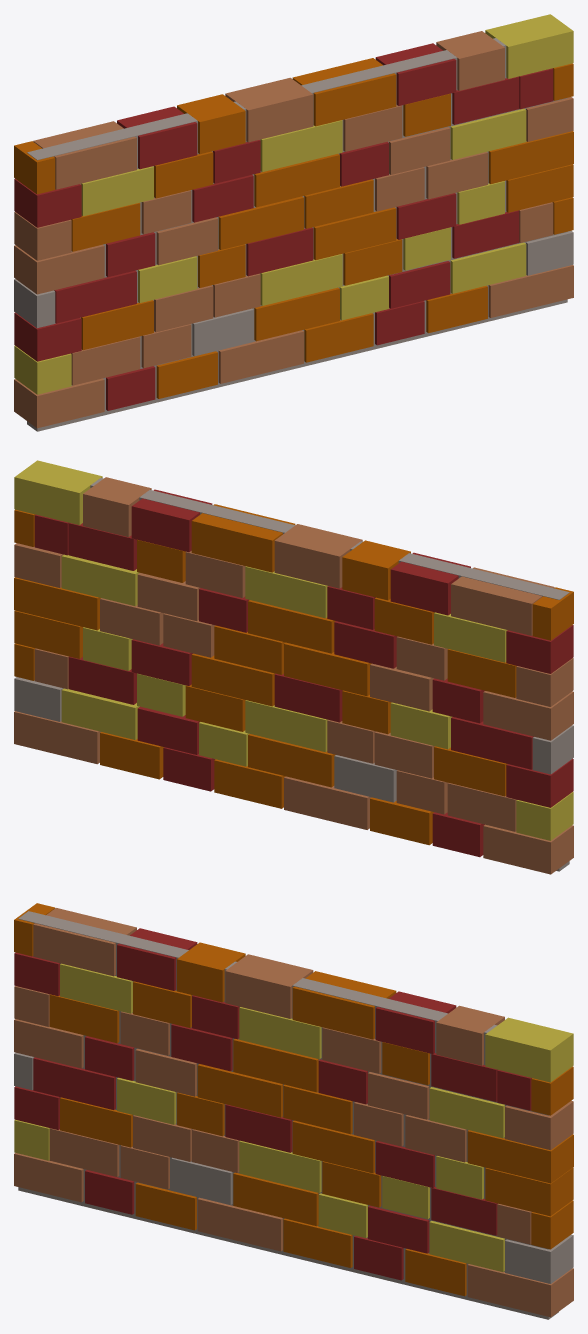
The model's file is mur1.fbx.
The picture shows the model from 3 angles, top to bottom: view 1: azimuth 30°, elevation 25°; view 2: azimuth 150°, elevation 25°; view 3: azimuth 330°, elevation 25°; orthographic projection.
Visible parts, largest first — view 1: Plane, Cube.067, Cube.070, Cube.066, Cube.063, Cube.044, Cube.008, Cube.005, Cube.041, Cube.012, Cube.048, Cube (+61 smaller); view 2: Cube.067, Cube.070, Cube.066, Cube.063, Plane, Cube.044, Cube.008, Cube.012, Cube.048, Cube.041, Cube.005, Cube.036 (+61 smaller); view 3: Plane, Cube.070, Cube.063, Cube.067, Cube.066, Cube, Cube.036, Cube.034, Cube.005, Cube.041, Cube.012, Cube.048 (+61 smaller).
Part boxes in pixels (left/top/right/bottom): Plane: left=27, top=38, right=567, bottom=431; Cube.067: left=292, top=58, right=396, bottom=126; Cube.070: left=485, top=14, right=573, bottom=78; Cube.066: left=225, top=77, right=313, bottom=142; Cube.063: left=33, top=121, right=136, bottom=189; Cube.044: left=14, top=244, right=104, bottom=294; Cube.008: left=14, top=378, right=104, bottom=428; Cube.005: left=218, top=330, right=303, bottom=383; Cube.041: left=218, top=196, right=303, bottom=249; Cube.012: left=254, top=287, right=339, bottom=341; Cube.048: left=254, top=154, right=339, bottom=207; Cube: left=488, top=265, right=573, bottom=317; Cube.067: left=191, top=504, right=295, bottom=572; Cube.070: left=14, top=460, right=102, bottom=525; Cube.066: left=274, top=524, right=362, bottom=588; Cube.063: left=451, top=567, right=554, bottom=635; Plane: left=90, top=478, right=569, bottom=871; Cube.044: left=483, top=691, right=573, bottom=740; Cube.008: left=483, top=824, right=573, bottom=874; Cube.012: left=248, top=734, right=335, bottom=787; Cube.048: left=248, top=600, right=335, bottom=653; Cube.041: left=284, top=642, right=371, bottom=696; Cube.005: left=284, top=776, right=371, bottom=829; Cube.036: left=14, top=577, right=100, bottom=630; Plane: left=18, top=911, right=558, bottom=1319; Cube.070: left=485, top=1017, right=573, bottom=1082; Cube.063: left=33, top=908, right=136, bottom=976; Cube.067: left=292, top=971, right=396, bottom=1039; Cube.066: left=225, top=954, right=313, bottom=1018; Cube: left=467, top=1264, right=573, bottom=1317; Cube.036: left=467, top=1130, right=573, bottom=1183; Cube.034: left=485, top=1167, right=573, bottom=1216; Cube.005: left=197, top=1197, right=282, bottom=1251; Cube.041: left=197, top=1064, right=282, bottom=1117; Cube.012: left=233, top=1172, right=318, bottom=1226; Cube.048: left=233, top=1039, right=318, bottom=1092.
Size of the model in its own units: 627 by 304 by 46.57.
